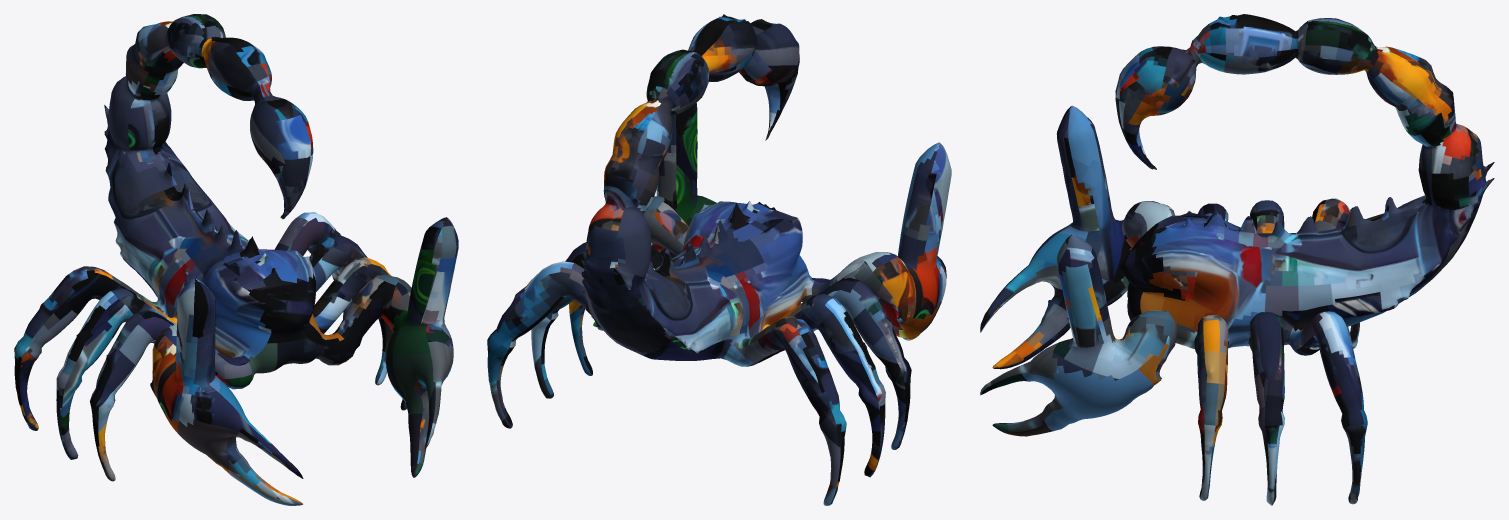
Rendered from Skarner+animacionfbx.fbx.
3 renders of one model, left to right at view 1: azimuth 30°, elevation 25°; view 2: azimuth 150°, elevation 25°; view 3: azimuth 270°, elevation 25°, orthographic. The views are drawn at different scales.
Parts seen in each view (by area): view 1: model.002; view 2: model.002; view 3: model.002.
Part boxes in pixels (x1,y1,x2,y2): model.002: (14,14,458,505); model.002: (487,14,951,505); model.002: (980,14,1494,505).
Size of the model in its own units: 152 by 165 by 189.
